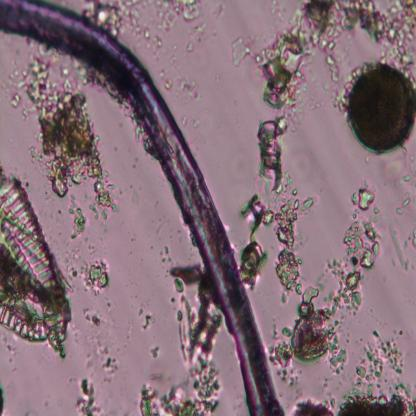Background material: (0, 55, 112, 222), (263, 0, 337, 120), (320, 216, 380, 315), (337, 0, 416, 73), (172, 262, 225, 368), (137, 361, 225, 416), (272, 186, 314, 294), (282, 283, 336, 365), (254, 107, 295, 188), (353, 329, 404, 391), (93, 0, 152, 34), (342, 392, 416, 416), (238, 240, 272, 288), (238, 193, 272, 238), (75, 254, 116, 288), (154, 0, 208, 25), (268, 340, 297, 384), (322, 29, 342, 86), (78, 372, 103, 416), (230, 34, 263, 67), (94, 345, 122, 379), (292, 395, 337, 416), (390, 226, 410, 272), (70, 194, 86, 248), (352, 180, 375, 214), (327, 341, 347, 377), (380, 156, 405, 184), (135, 302, 158, 332), (187, 25, 211, 53), (140, 26, 163, 55), (181, 78, 205, 104), (84, 310, 102, 329), (0, 379, 8, 416), (395, 198, 409, 216), (152, 345, 163, 358), (180, 113, 190, 126), (410, 228, 416, 247), (166, 79, 175, 91), (193, 116, 200, 129), (403, 172, 412, 182), (373, 204, 380, 215)
Cotton: (0, 0, 286, 416)
Diatom: (0, 168, 76, 351), (342, 58, 416, 159)
